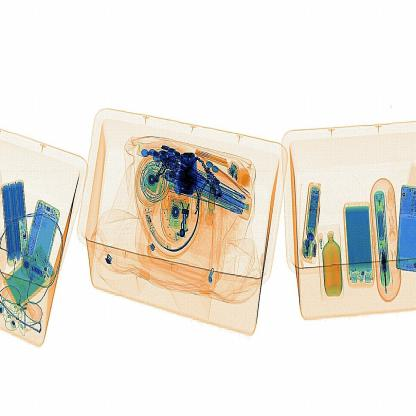scissors: (178, 151, 202, 201)
